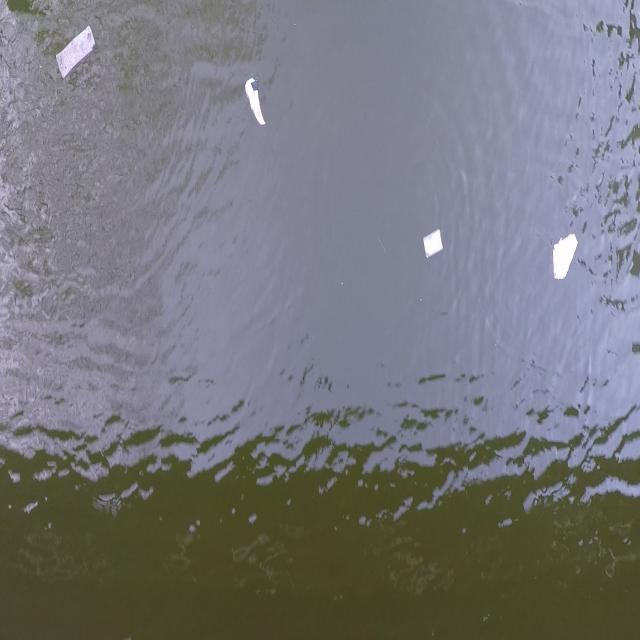Autre plastique: (419, 226, 446, 264)
